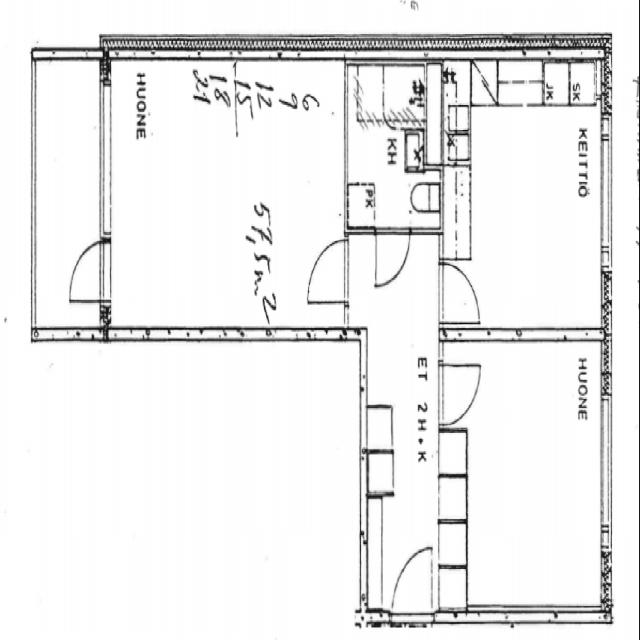door: (389, 537, 438, 630), (304, 234, 350, 308), (437, 358, 484, 429), (437, 257, 483, 329), (66, 236, 109, 308), (372, 224, 411, 292)
window: (467, 319, 607, 353), (94, 73, 117, 247), (594, 389, 618, 541), (596, 121, 618, 268)
zone: (102, 58, 345, 333), (438, 326, 608, 616), (440, 53, 606, 324), (363, 229, 442, 620), (32, 48, 104, 339), (346, 57, 438, 229)
